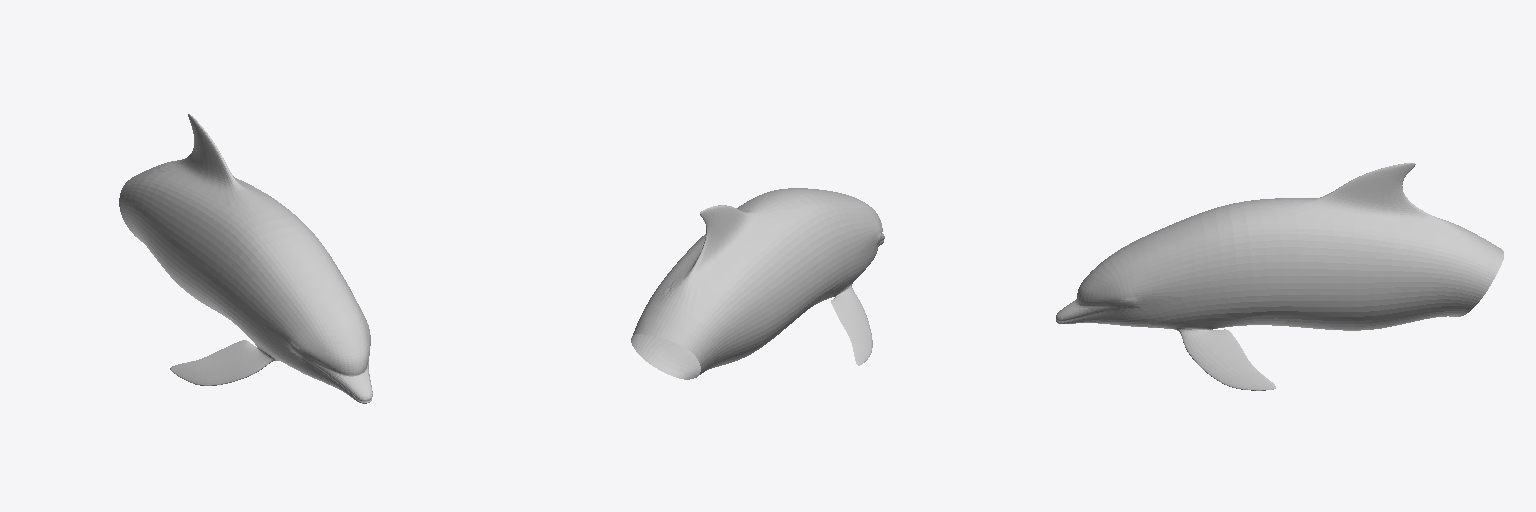
The model's file is cuerpoDelfin.obj.
3 renders of one model, left to right at view 1: azimuth 30°, elevation 25°; view 2: azimuth 150°, elevation 25°; view 3: azimuth 270°, elevation 25°, orthographic.
Visible parts, largest first — view 1: polySurface1 _dolphin_v2_max2011_it2:dolphin; view 2: polySurface1 _dolphin_v2_max2011_it2:dolphin; view 3: polySurface1 _dolphin_v2_max2011_it2:dolphin.
Part boxes in pixels (left/top/right/bottom): polySurface1 _dolphin_v2_max2011_it2:dolphin: left=119, top=114, right=372, bottom=403; polySurface1 _dolphin_v2_max2011_it2:dolphin: left=631, top=188, right=884, bottom=379; polySurface1 _dolphin_v2_max2011_it2:dolphin: left=1056, top=163, right=1503, bottom=390.
Bounding box in the file's own units: 4.4 × 4.42 × 9.66.